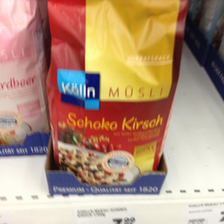cereal: (46, 30, 182, 187)
